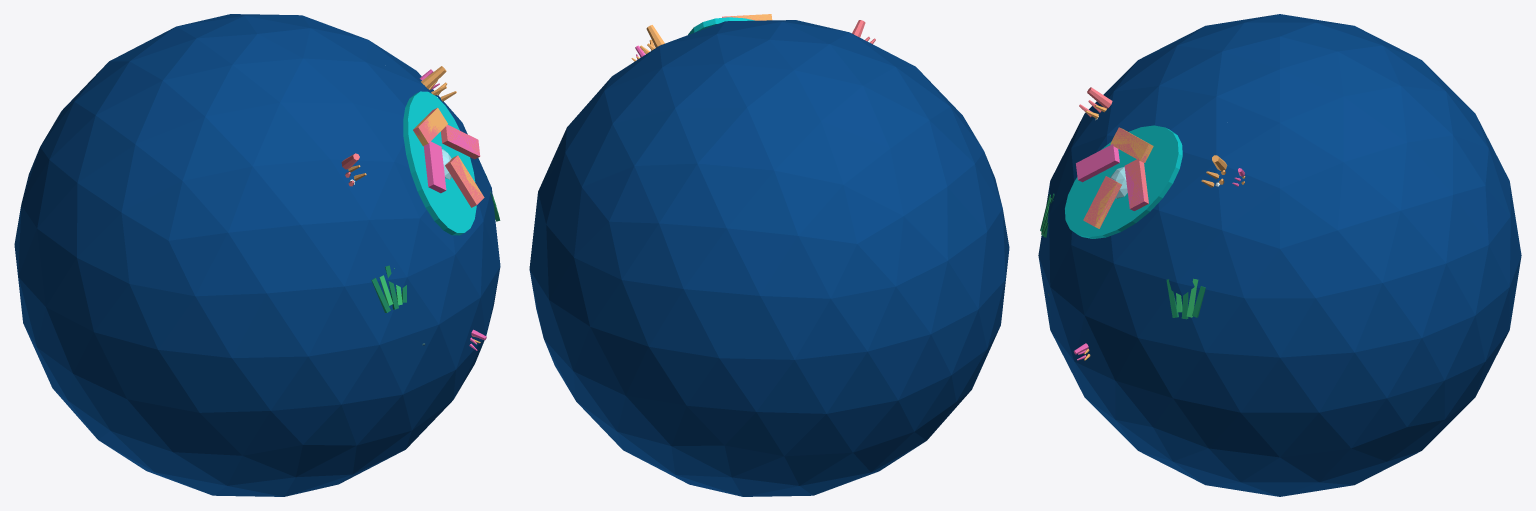
Rendered from Ocean_07.fbx.
The picture shows the model from 3 angles, left to right: view 1: azimuth 30°, elevation 25°; view 2: azimuth 150°, elevation 25°; view 3: azimuth 270°, elevation 25°; orthographic projection.
Parts seen in each view (by area): view 1: Ocean_07; view 2: Ocean_07; view 3: Ocean_07.
Boxes of the visible parts, bbox=[...] form: Ocean_07: bbox=[14, 14, 500, 496]; Ocean_07: bbox=[529, 14, 1009, 496]; Ocean_07: bbox=[1038, 14, 1521, 496].
Size of the model in its own units: 6 by 6 by 6.
1 material, 1 textured.
